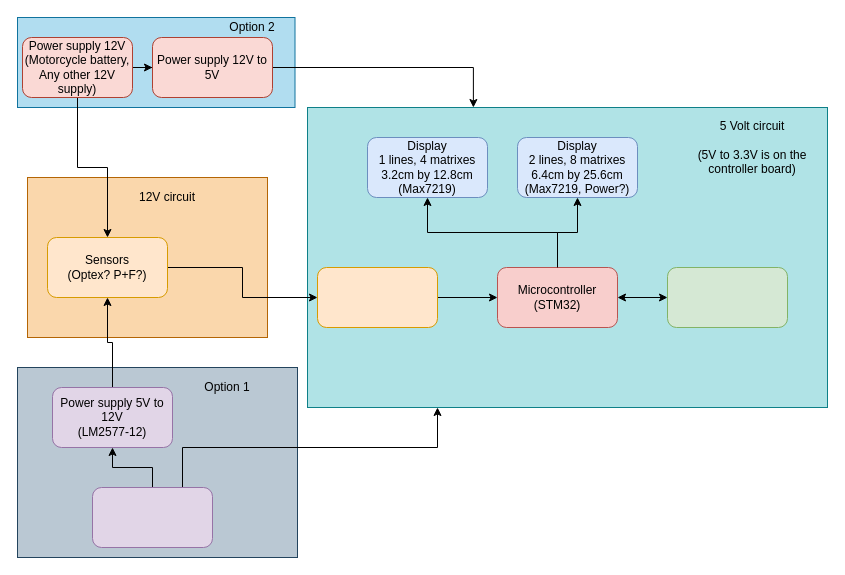
Some shapes in this 845 by 575 pixel diagram are drawn without their labels. The centre of each missing label's shape, as x and y in pixels:
Input protection (Optocoupler? Divider? Other circuit): the point at 377,297
Power supply 5V (Any USB supply like phone charger, power bank): the point at 152,517
Real time clock to correct clock drift on STM32 (DS3231): the point at 727,297
